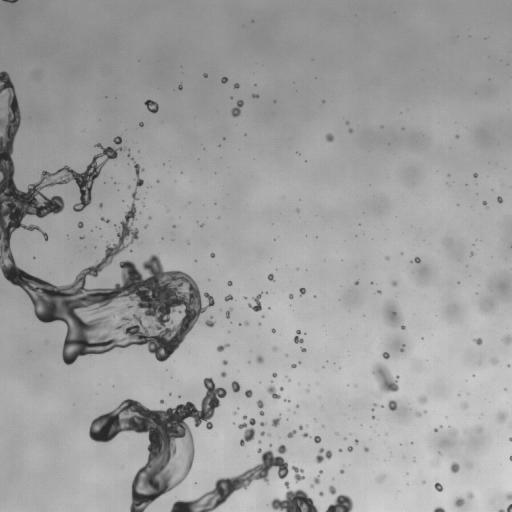droplet: (271, 481, 318, 511), (372, 363, 398, 393), (383, 301, 405, 329), (238, 418, 255, 446), (325, 494, 353, 511), (316, 448, 332, 463), (248, 293, 261, 311), (291, 466, 304, 482), (144, 99, 158, 113), (480, 299, 495, 312), (231, 100, 243, 116), (267, 385, 280, 399), (294, 330, 303, 343), (454, 497, 464, 507), (231, 381, 240, 392), (388, 400, 397, 410), (497, 411, 506, 421), (450, 462, 459, 472), (272, 415, 280, 426), (502, 335, 511, 344), (205, 319, 214, 327), (434, 482, 442, 491), (328, 485, 336, 494), (113, 136, 121, 144), (244, 389, 252, 397), (419, 395, 427, 403), (313, 435, 321, 443), (287, 430, 296, 437), (326, 133, 333, 141), (474, 338, 482, 345), (256, 355, 263, 363), (382, 352, 389, 359), (268, 273, 274, 281), (225, 295, 233, 301), (505, 492, 511, 500), (77, 221, 83, 228), (413, 257, 420, 263), (299, 288, 305, 295), (377, 475, 384, 481), (221, 77, 227, 83), (491, 358, 497, 364), (451, 429, 457, 435), (497, 196, 502, 203), (302, 432, 309, 437), (433, 460, 439, 465), (234, 83, 239, 88), (222, 360, 227, 365), (221, 372, 226, 377), (462, 403, 467, 408), (416, 412, 421, 417), (347, 446, 352, 451), (468, 493, 473, 498), (252, 94, 258, 98), (178, 84, 182, 89), (227, 281, 232, 285), (355, 280, 359, 285), (289, 294, 293, 299), (291, 364, 296, 368), (272, 372, 276, 377), (260, 422, 265, 426), (260, 431, 264, 436), (319, 491, 323, 496), (203, 73, 207, 77), (139, 122, 143, 126), (473, 173, 477, 177), (482, 201, 486, 205), (210, 253, 214, 257), (385, 256, 389, 260), (392, 281, 396, 285), (244, 321, 248, 325), (272, 347, 276, 351), (301, 347, 305, 351), (364, 447, 368, 451), (348, 129, 352, 132), (99, 203, 102, 207), (470, 252, 473, 256), (354, 440, 358, 443), (80, 236, 83, 239), (377, 290, 380, 293), (272, 329, 275, 332), (280, 387, 283, 390), (160, 400, 163, 403), (243, 415, 246, 418), (299, 426, 302, 429), (340, 470, 343, 473), (374, 403, 376, 407), (509, 437, 511, 441), (346, 121, 348, 124), (456, 135, 458, 138), (127, 154, 130, 156), (296, 209, 299, 211), (284, 399, 287, 401), (434, 429, 437, 431), (157, 180, 159, 182), (145, 225, 147, 227), (201, 224, 203, 226), (296, 405, 298, 407), (424, 410, 426, 412), (372, 416, 374, 418), (335, 432, 337, 434), (339, 449, 341, 451)
ligament: (0, 72, 214, 364), (89, 378, 226, 511), (170, 444, 289, 511), (134, 163, 143, 187), (311, 470, 322, 487), (120, 305, 132, 313), (217, 343, 229, 351), (498, 504, 511, 511), (257, 400, 263, 415), (433, 506, 445, 511), (226, 308, 231, 317), (3, 0, 17, 3), (101, 217, 109, 222), (400, 345, 404, 351), (509, 456, 511, 461)
